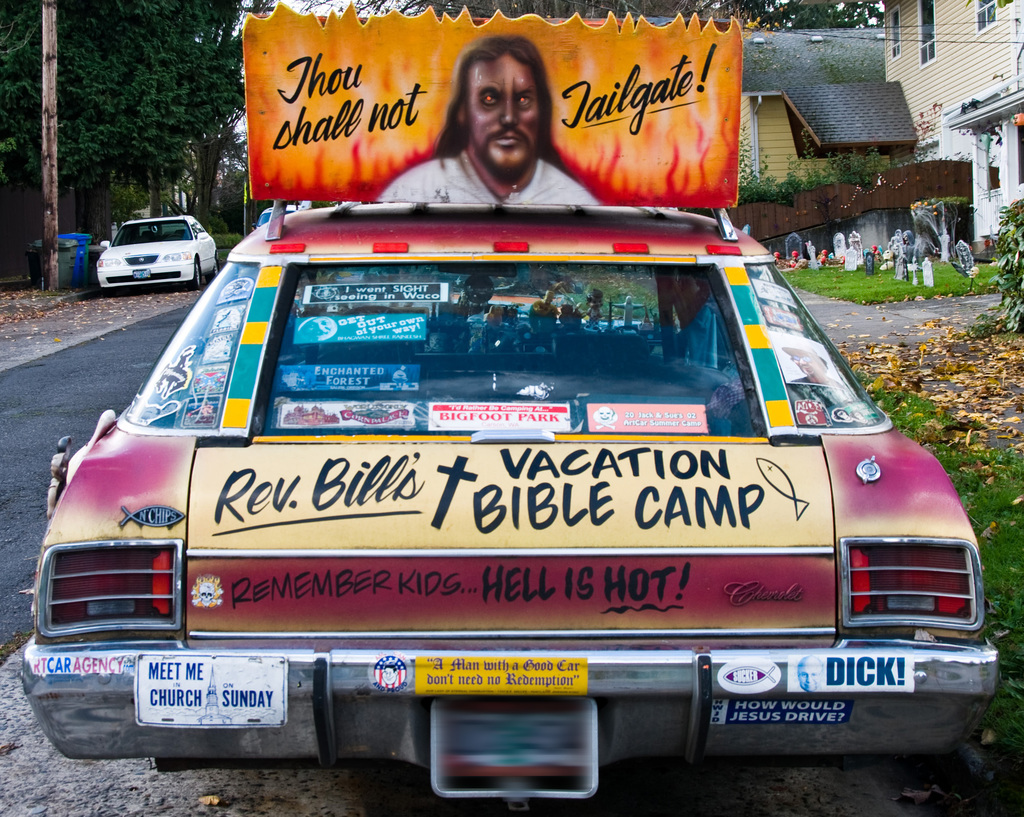Car: (30, 172, 995, 817), (95, 216, 216, 291)
